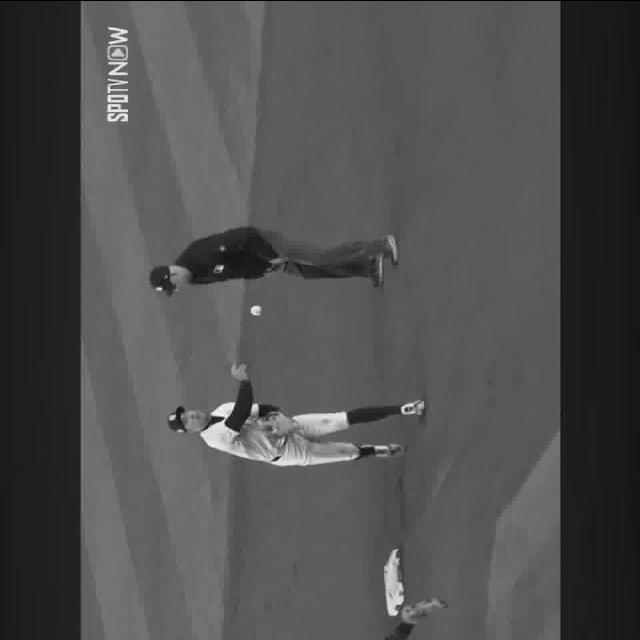base: (383, 548, 405, 615)
baseball: (250, 304, 264, 314)
baseball_glove: (268, 411, 298, 434)
shoe: (400, 596, 448, 616), (358, 442, 407, 457), (368, 255, 387, 288), (376, 236, 398, 262), (400, 398, 425, 415)
